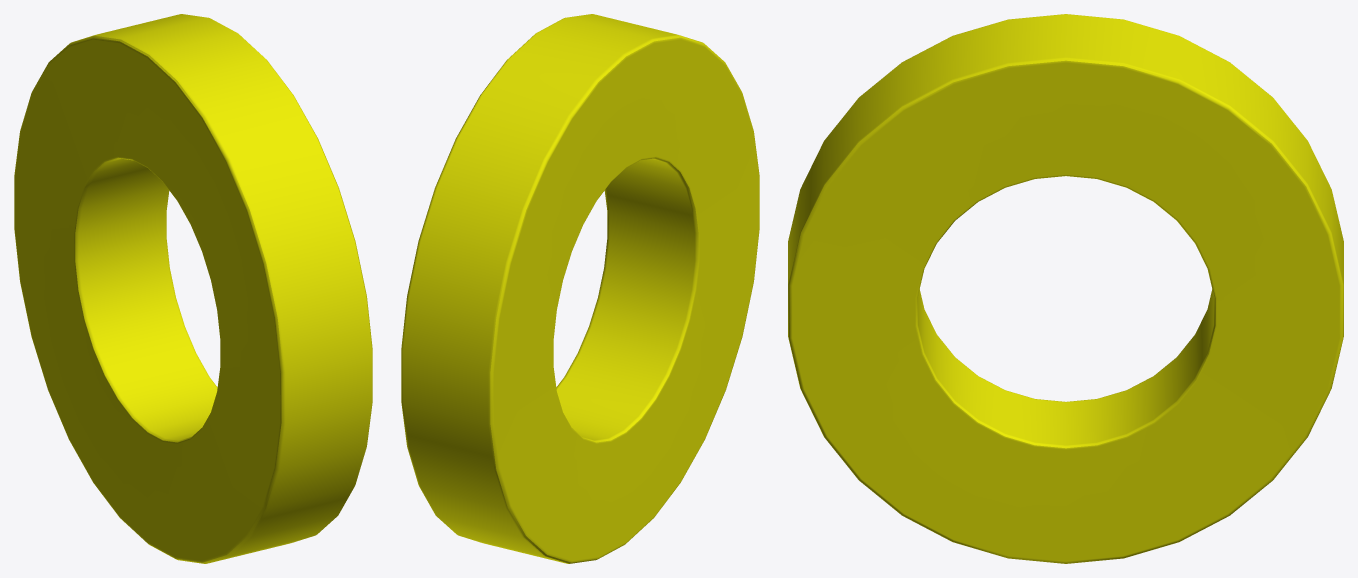
The model's file is Ring Thick.fbx.
3 views of the same model, side by side, from view 1: azimuth 30°, elevation 25°; view 2: azimuth 150°, elevation 25°; view 3: azimuth 270°, elevation 25° (orthographic). The views are drawn at different scales.
Visible parts, largest first — view 1: big_ring; view 2: big_ring; view 3: big_ring.
Boxes of the visible parts, left/top/right/bottom form: big_ring: left=14, top=14, right=372, bottom=563; big_ring: left=401, top=14, right=759, bottom=563; big_ring: left=788, top=14, right=1343, bottom=563.
Size of the model in its own units: 2.43 by 12.32 by 12.25.
